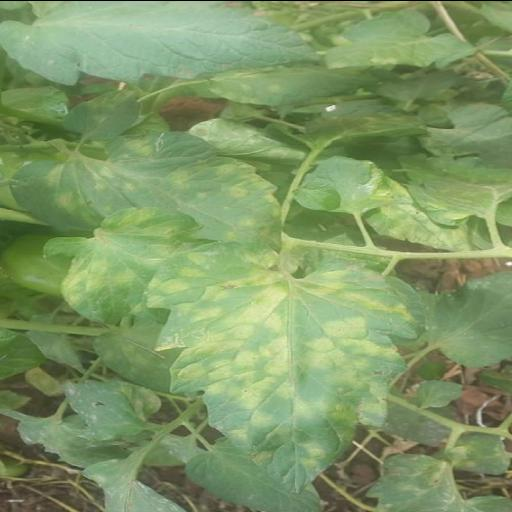Leaf Mold: (144, 252, 422, 486), (28, 128, 282, 252), (52, 214, 219, 314)
